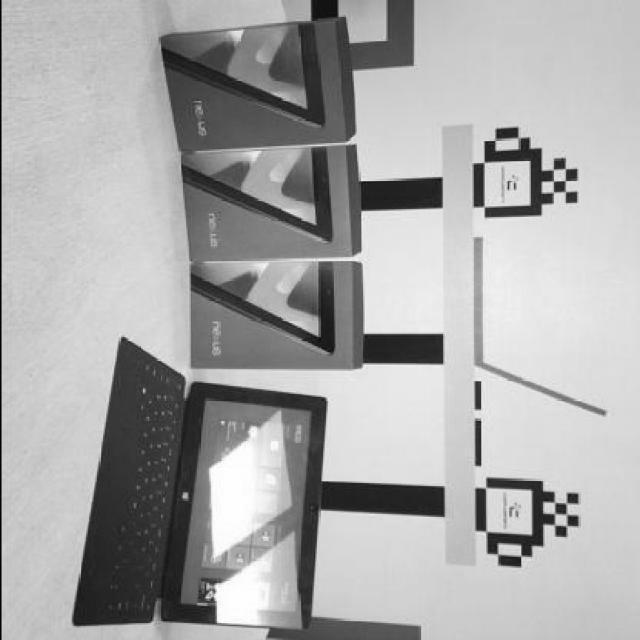fake: (156, 20, 319, 128), (178, 150, 327, 244), (188, 262, 334, 353)
